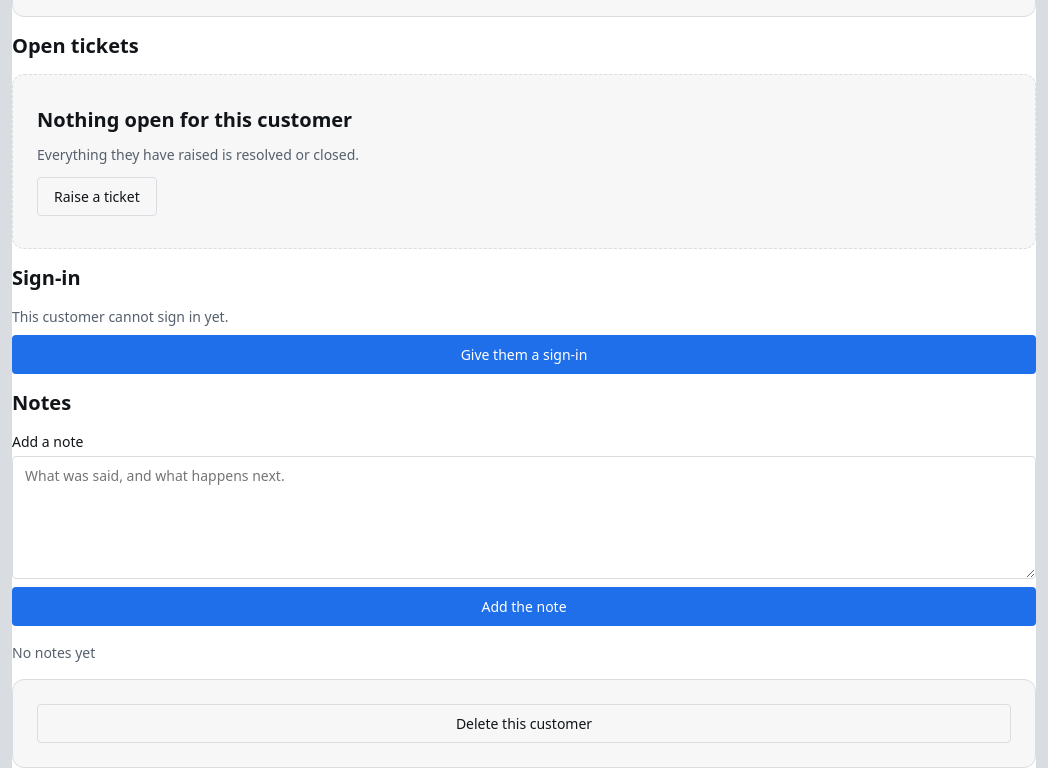
it asks first, and cancelling writes nothing
The width and height of the screenshot is (1048, 768).
(page scrolled)
Click the button "Delete this customer" at point(524, 724), box [37,704,1011,743]
(page scrolled)
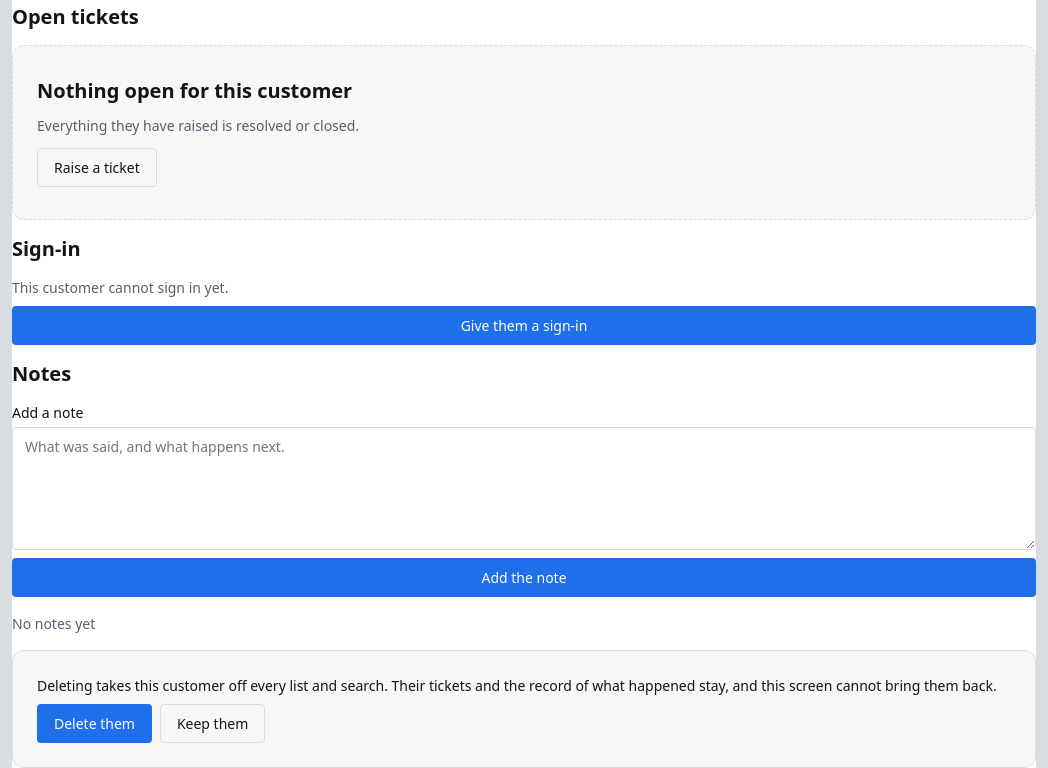
Result: the text "Deleting takes this customer off every list and search. Their tickets and the record of what happened stay, and this scr" is shown at [37,676,997,695]
Click the button "Keep them" at point(213, 724), box [160,704,265,743]
(page scrolled)
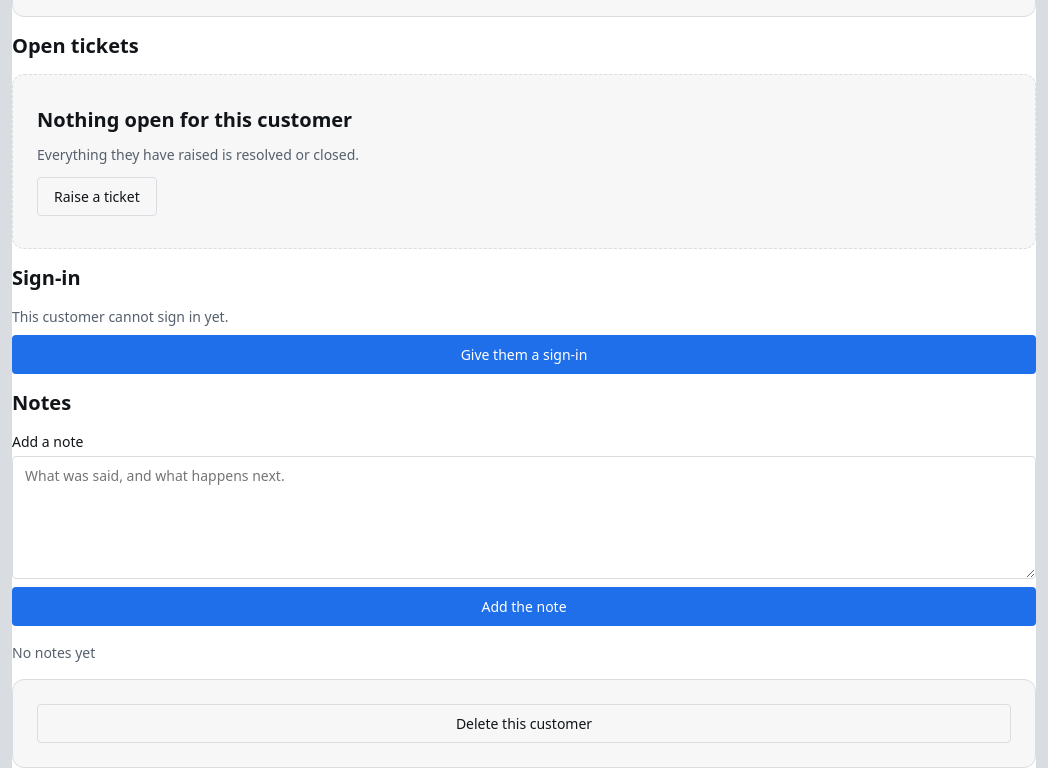
Result: the text "Deleting takes this customer off every list and search. Their tickets and the record of what happened stay, and this scr" is gone
Result: the button "Delete this customer" is shown at [37,704,1011,743]
